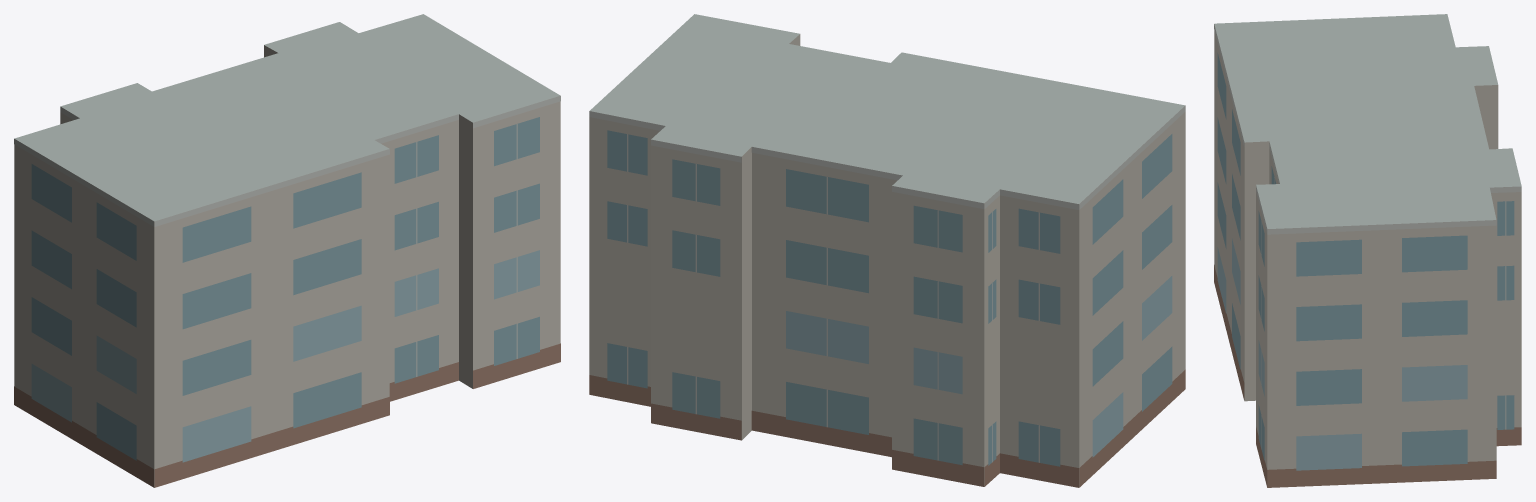
The model's file is survey-upis-32823479.glb.
3 views of the same model, side by side, from view 1: azimuth 30°, elevation 25°; view 2: azimuth 150°, elevation 25°; view 3: azimuth 270°, elevation 25° (orthographic). The views are drawn at different scales.
Visible parts, largest first — view 1: survey-upis-32823479.tmp; view 2: survey-upis-32823479.tmp; view 3: survey-upis-32823479.tmp.
Part boxes in pixels (box(x1,y1,x2,y2)): survey-upis-32823479.tmp: box(14, 14, 560, 487); survey-upis-32823479.tmp: box(589, 14, 1185, 487); survey-upis-32823479.tmp: box(1214, 14, 1521, 487).
Size of the model in its own units: 20.51 by 11.5 by 12.4.
